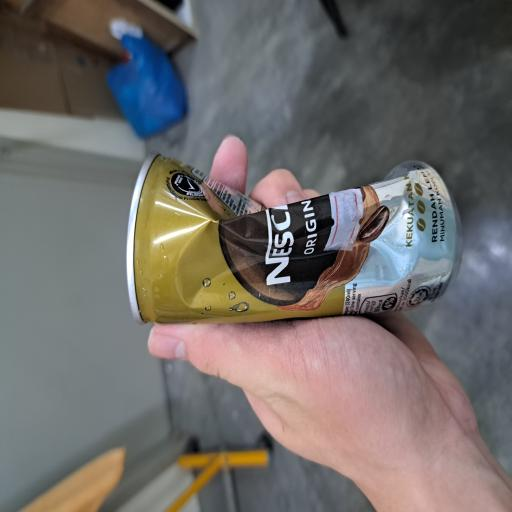can: (138, 168, 272, 512)
